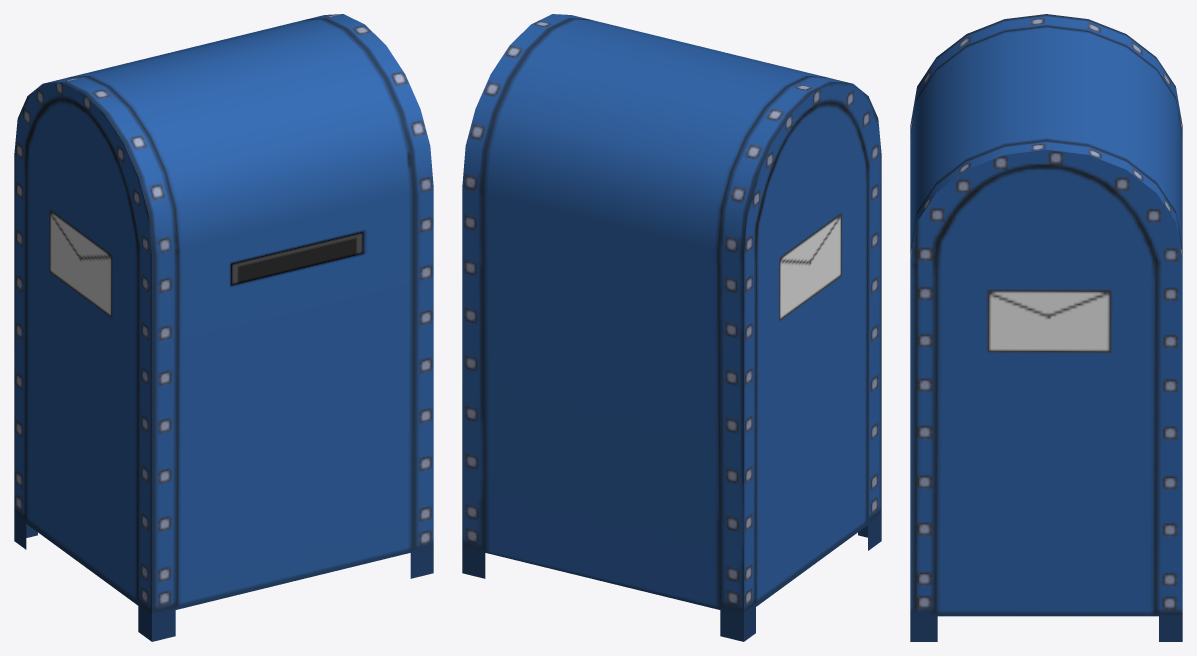
The model's file is PublicMailBox_01.fbx.
3 renders of one model, left to right at view 1: azimuth 30°, elevation 25°; view 2: azimuth 150°, elevation 25°; view 3: azimuth 270°, elevation 25°, orthographic.
Parts seen in each view (by area): view 1: PublicMailBox_01; view 2: PublicMailBox_01; view 3: PublicMailBox_01.
Boxes of the visible parts, <box> form: PublicMailBox_01: <box>14,14,433,641</box>; PublicMailBox_01: <box>462,14,881,641</box>; PublicMailBox_01: <box>910,14,1182,641</box>.
Size of the model in its own units: 3.3 by 5.58 by 2.8.
